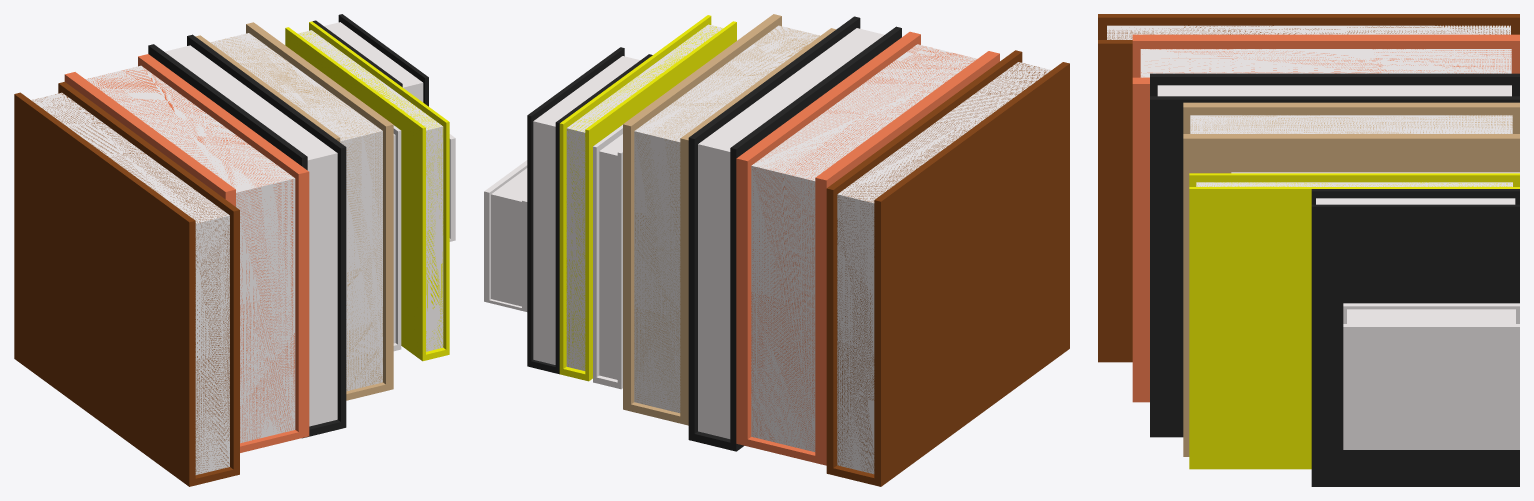
3 renders of one model, left to right at view 1: azimuth 30°, elevation 25°; view 2: azimuth 150°, elevation 25°; view 3: azimuth 270°, elevation 25°, orthographic. The views are drawn at different scales.
Visible parts, largest first — view 1: books horizontal; view 2: books horizontal; view 3: books horizontal.
Part boxes in pixels (x1,y1,x2,y2): books horizontal: (14, 14, 455, 486); books horizontal: (484, 14, 1069, 486); books horizontal: (1098, 14, 1519, 486).
Size of the model in its own units: 16.6 by 12.08 by 13.68.
